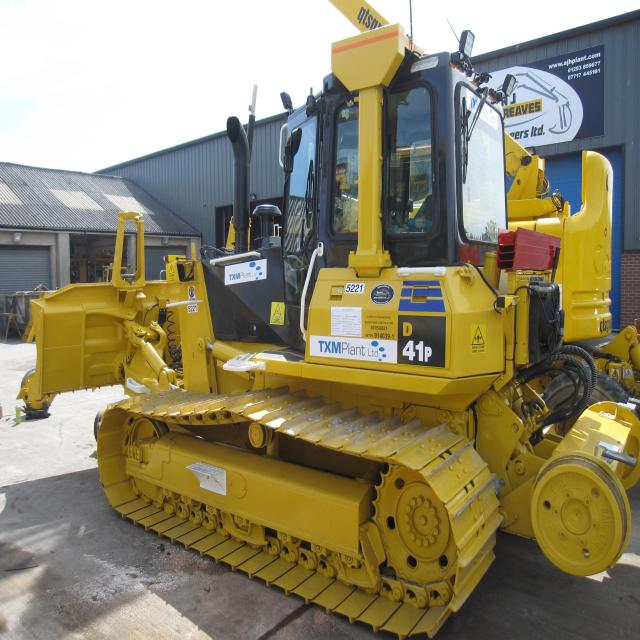Bulldozer: (38, 23, 640, 640)
